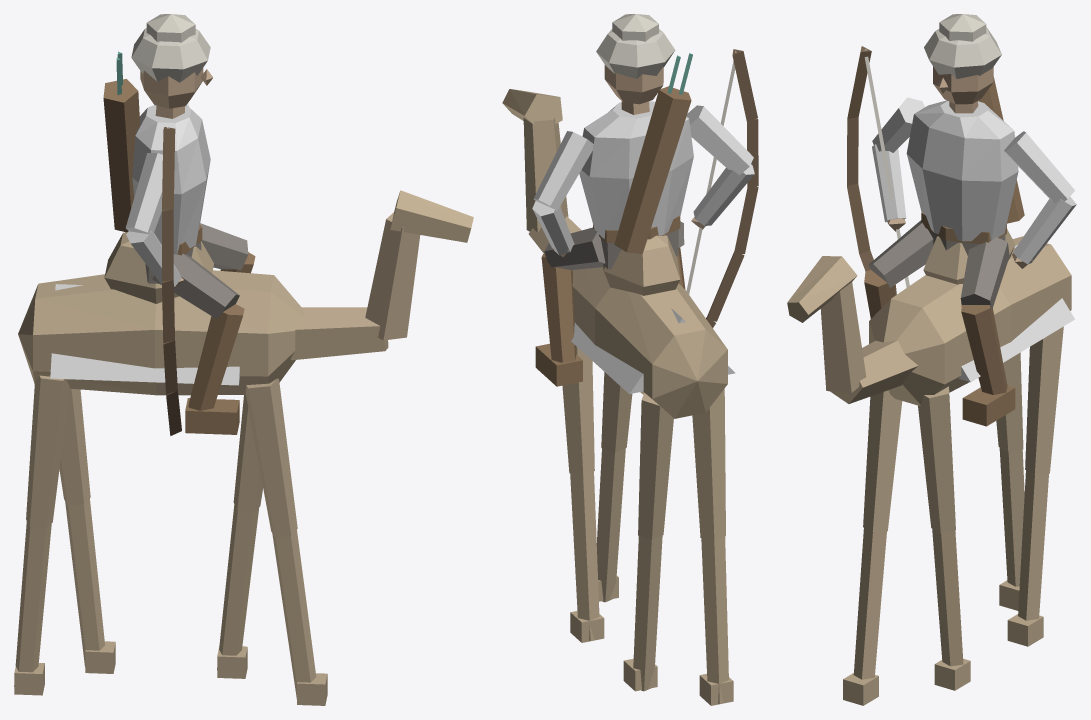
File: camel-archer.glb
3 views of the same model, side by side, from view 1: azimuth 30°, elevation 25°; view 2: azimuth 150°, elevation 25°; view 3: azimuth 270°, elevation 25° (orthographic). The views are drawn at different scales.
Visible parts, largest first — view 1: LOD0; view 2: LOD0; view 3: LOD0.
Boxes of the visible parts, x1=… form: LOD0: x1=14, y1=14, x2=473, y2=705; LOD0: x1=502, y1=14, x2=758, y2=705; LOD0: x1=787, y1=14, x2=1076, y2=705.
Size of what is drawn, in the model's own units: 0.8538 by 1.56 by 0.6372.
